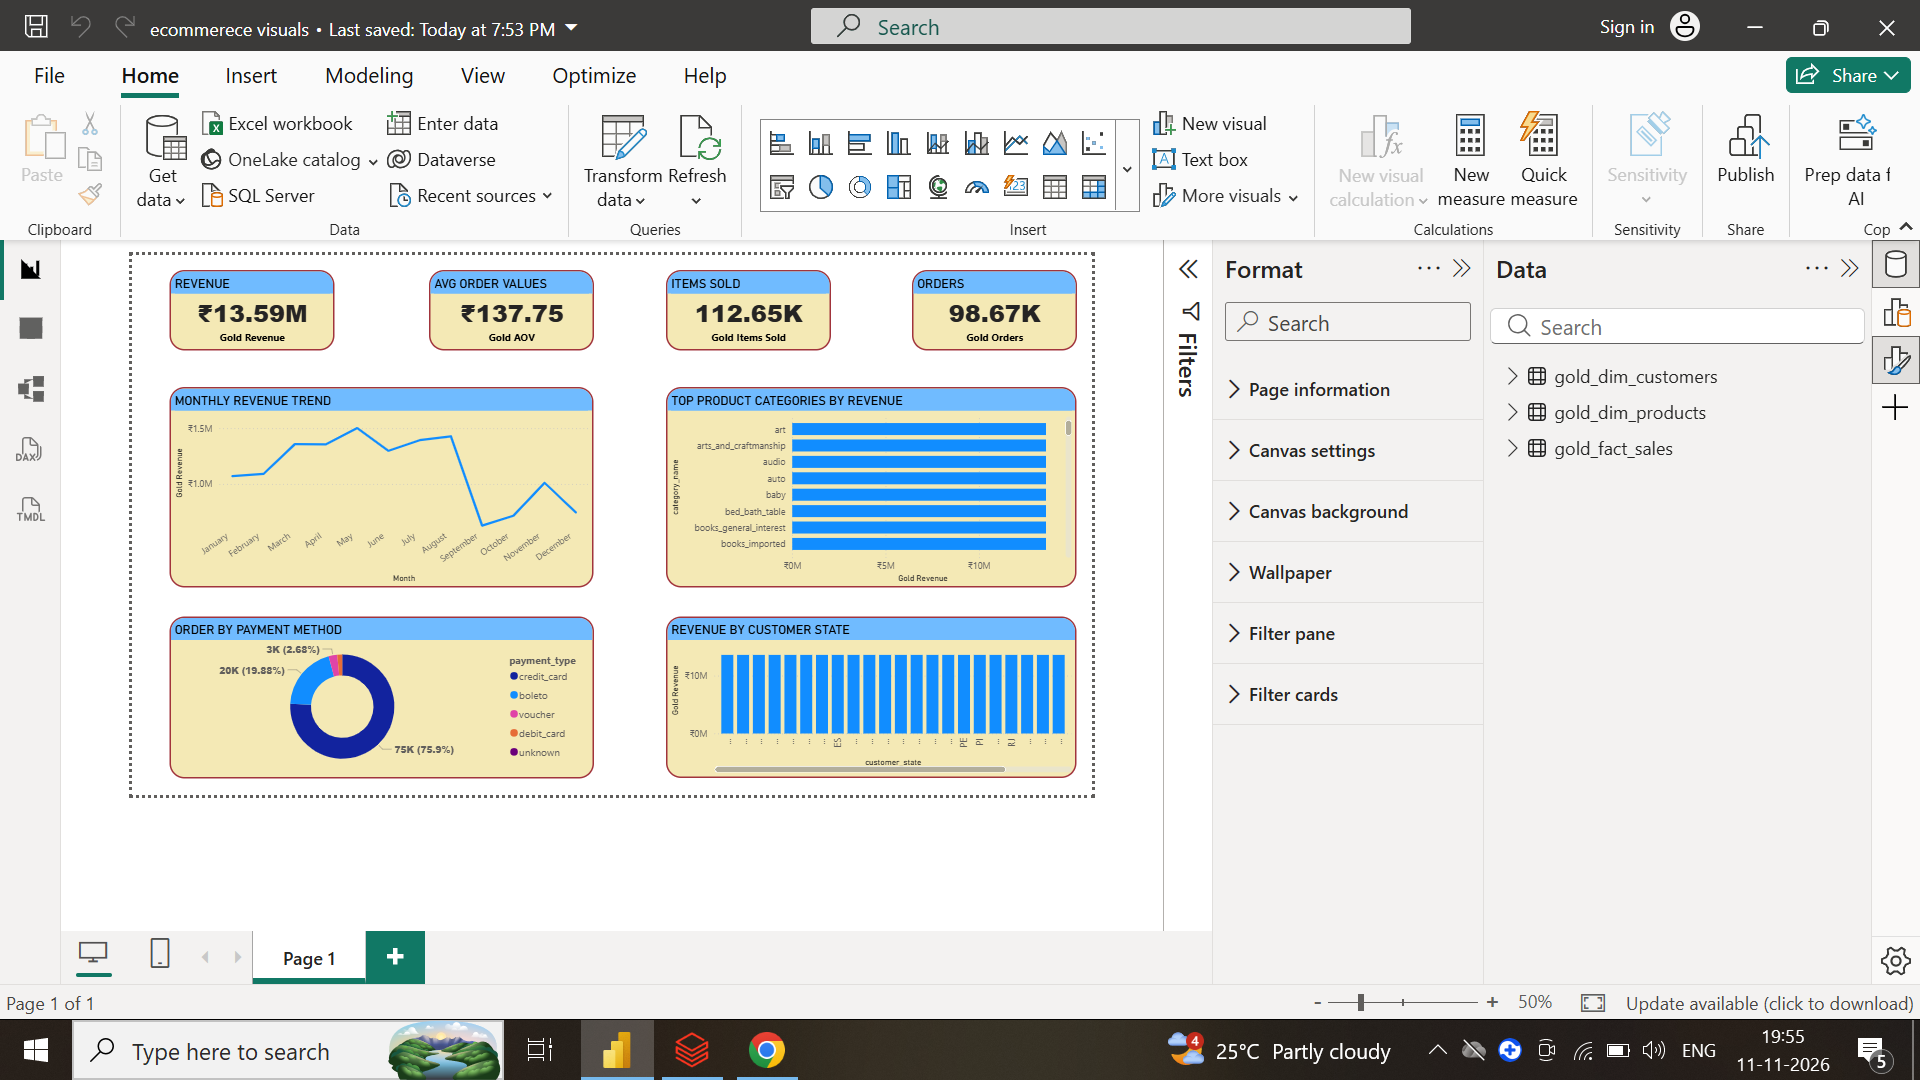

The page's visual inventory and layout, read from the dashboard file:
{"tool":"powerbi","page":{"name":"Page 1","canvas":[1280,720],"ordinal":0},"visuals":[{"type":"card","title":"REVENUE","fields":{"Values":["gold_fact_sales.Gold Revenue"]},"box":[50,20,220,107.5],"z":0},{"type":"card","title":"ITEMS SOLD","fields":{"Values":["gold_fact_sales.Gold Items Sold"]},"box":[712.5,20,220,107.5],"z":1000},{"type":"card","title":"AVG ORDER VALUES","fields":{"Values":["gold_fact_sales.Gold AOV"]},"box":[395,20,220,107.5],"z":2000},{"type":"card","title":"ORDERS","fields":{"Values":["gold_fact_sales.Gold Orders"]},"box":[1040,20,220,107.5],"z":3000},{"type":"lineChart","title":"MONTHLY REVENUE TREND","fields":{"Category":["gold_fact_sales.order_purchase_timestamp.Variation.Date Hierarchy.Year","gold_fact_sales.order_purchase_timestamp.Variation.Date Hierarchy.Quarter","gold_fact_sales.order_purchase_timestamp.Variation.Date Hierarchy.Month","gold_fact_sales.order_purchase_timestamp.Variation.Date Hierarchy.Day"],"Y":["gold_fact_sales.Gold Revenue"]},"box":[50,175,565,267.5],"z":3001},{"type":"clusteredBarChart","title":"TOP PRODUCT CATEGORIES BY REVENUE","fields":{"Category":["gold_dim_products.category_name"],"Y":["gold_fact_sales.Gold Revenue"]},"box":[712.5,175,547.5,267.5],"z":3002},{"type":"donutChart","title":"ORDER BY PAYMENT METHOD","fields":{"Category":["gold_fact_sales.payment_type"],"Y":["gold_fact_sales.Gold Orders"]},"box":[50,482,566,216],"z":3003},{"type":"clusteredColumnChart","title":"REVENUE BY CUSTOMER STATE","fields":{"Category":["gold_dim_customers.customer_state"],"Y":["gold_fact_sales.Gold Revenue"]},"box":[712.5,482.5,547.5,215],"z":3004}]}

Visuals, with their boxes on the page's 1280x720 design canvas (x1, y1, x2, y2). These are canvas units, not pixel positions in the 1920x1080 screenshot, which may show the page scaled, cropped or inside an application window:
"REVENUE" card: locate(50, 20, 270, 128)
"ITEMS SOLD" card: locate(712, 20, 932, 128)
"AVG ORDER VALUES" card: locate(395, 20, 615, 128)
"ORDERS" card: locate(1040, 20, 1260, 128)
"MONTHLY REVENUE TREND" lineChart: locate(50, 175, 615, 442)
"TOP PRODUCT CATEGORIES BY REVENUE" clusteredBarChart: locate(712, 175, 1260, 442)
"ORDER BY PAYMENT METHOD" donutChart: locate(50, 482, 616, 698)
"REVENUE BY CUSTOMER STATE" clusteredColumnChart: locate(712, 482, 1260, 698)
